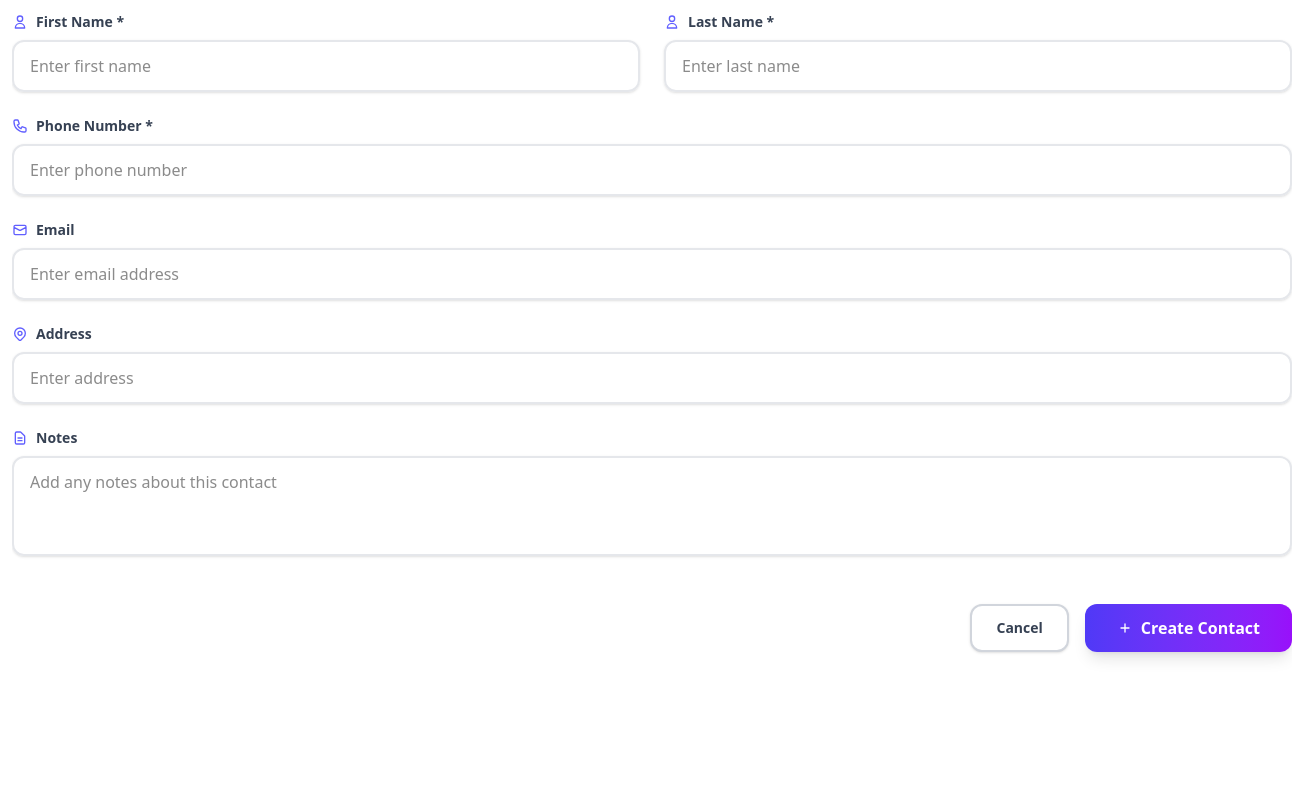
ContactForm › error handling › should handle non-Error exceptions
In the field labelled "First Name *": (326, 66) left=12, top=40, right=640, bottom=92, type "John"
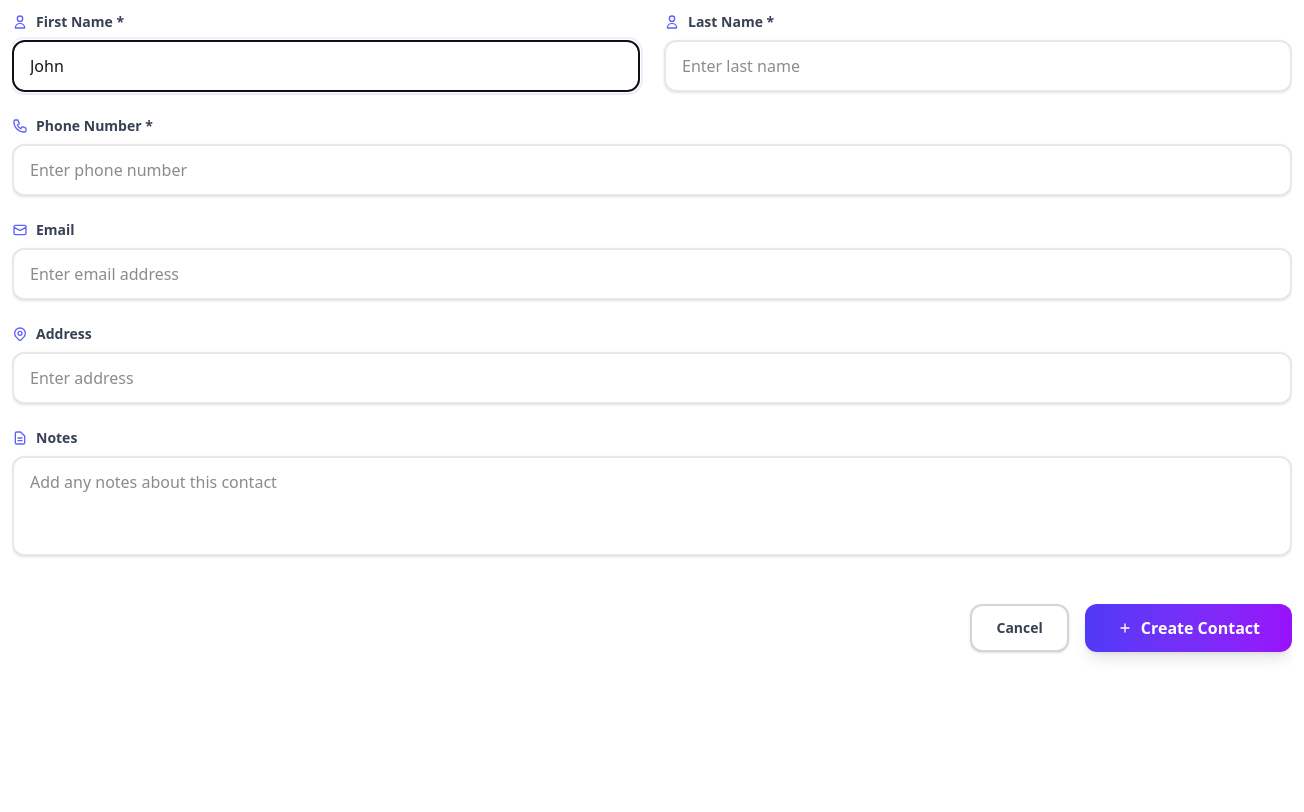
In the field labelled "Last Name *": (978, 66) left=664, top=40, right=1292, bottom=92, type "Doe"
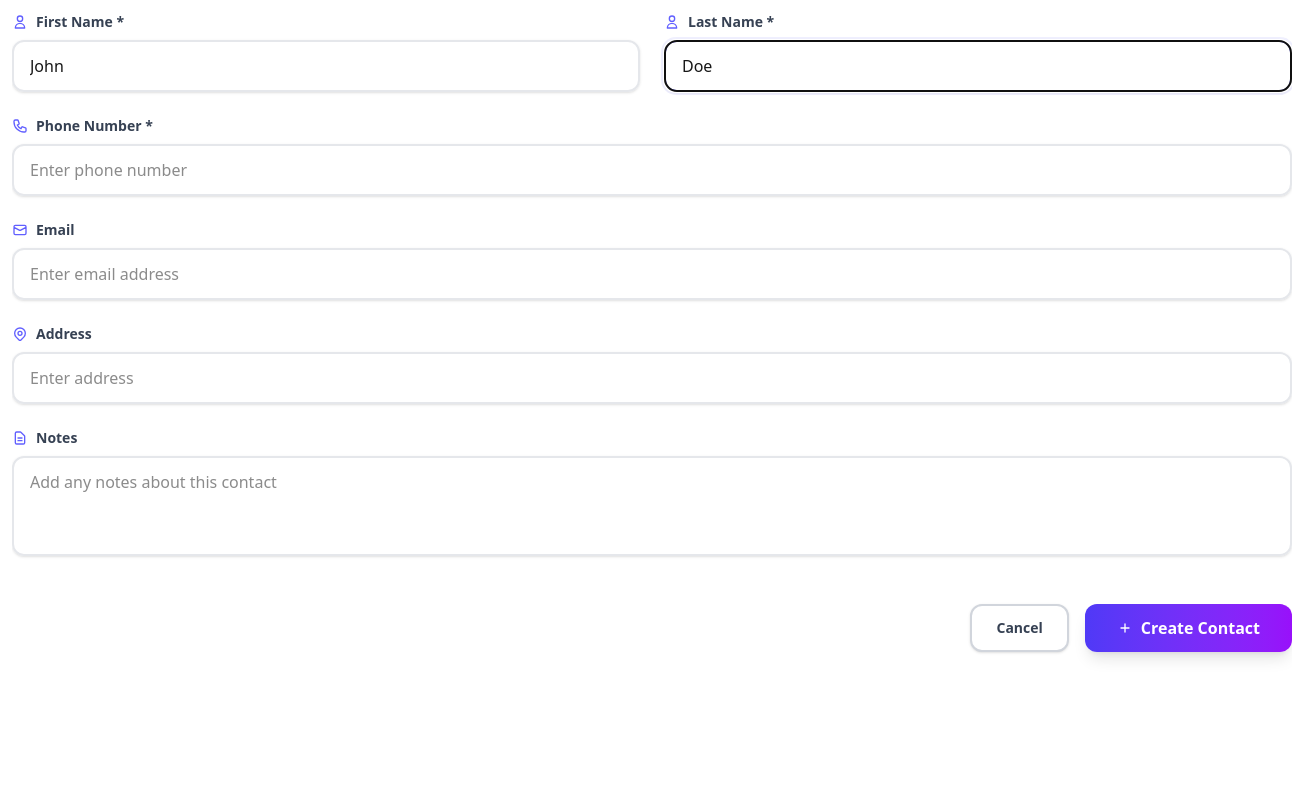
In the field labelled "Phone Number *": (652, 170) left=12, top=144, right=1292, bottom=196, type "1234567890"
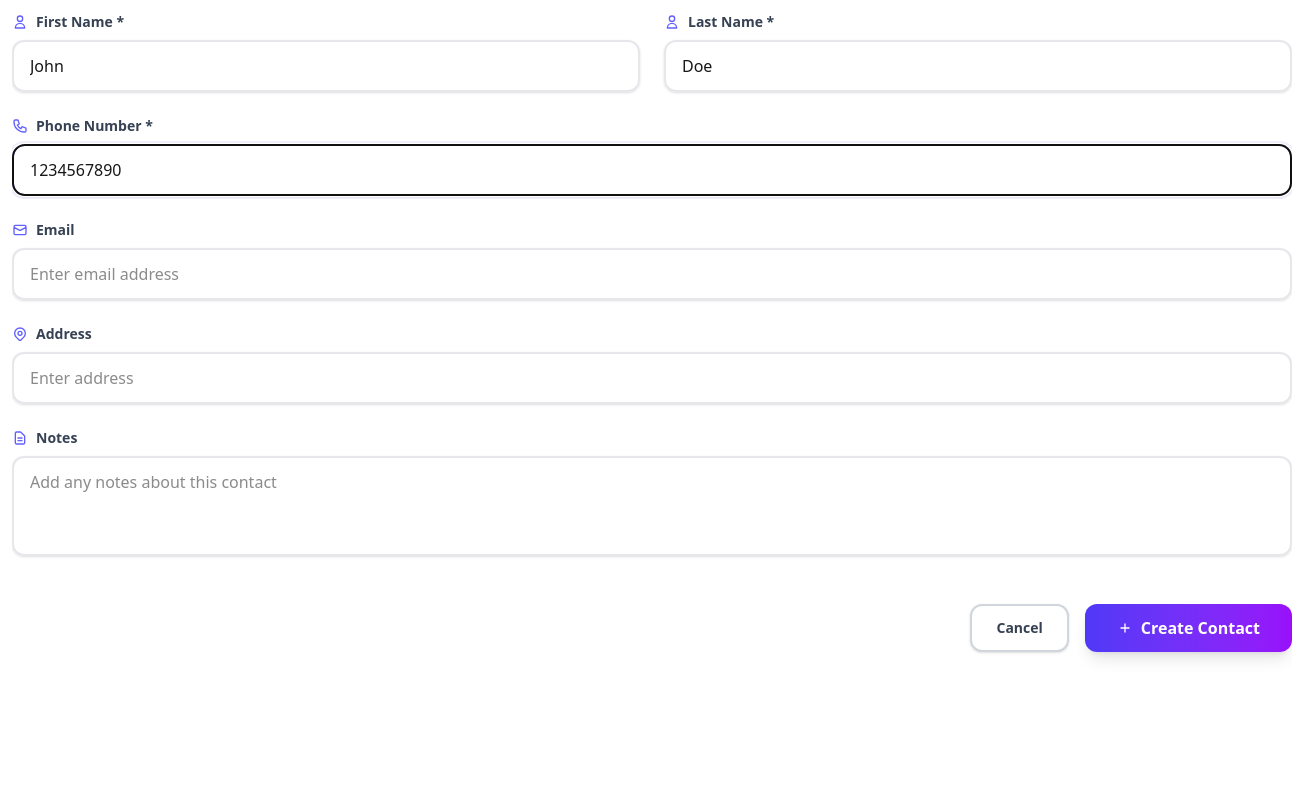
Click the button "Create Contact": (1188, 628) left=1085, top=604, right=1292, bottom=652
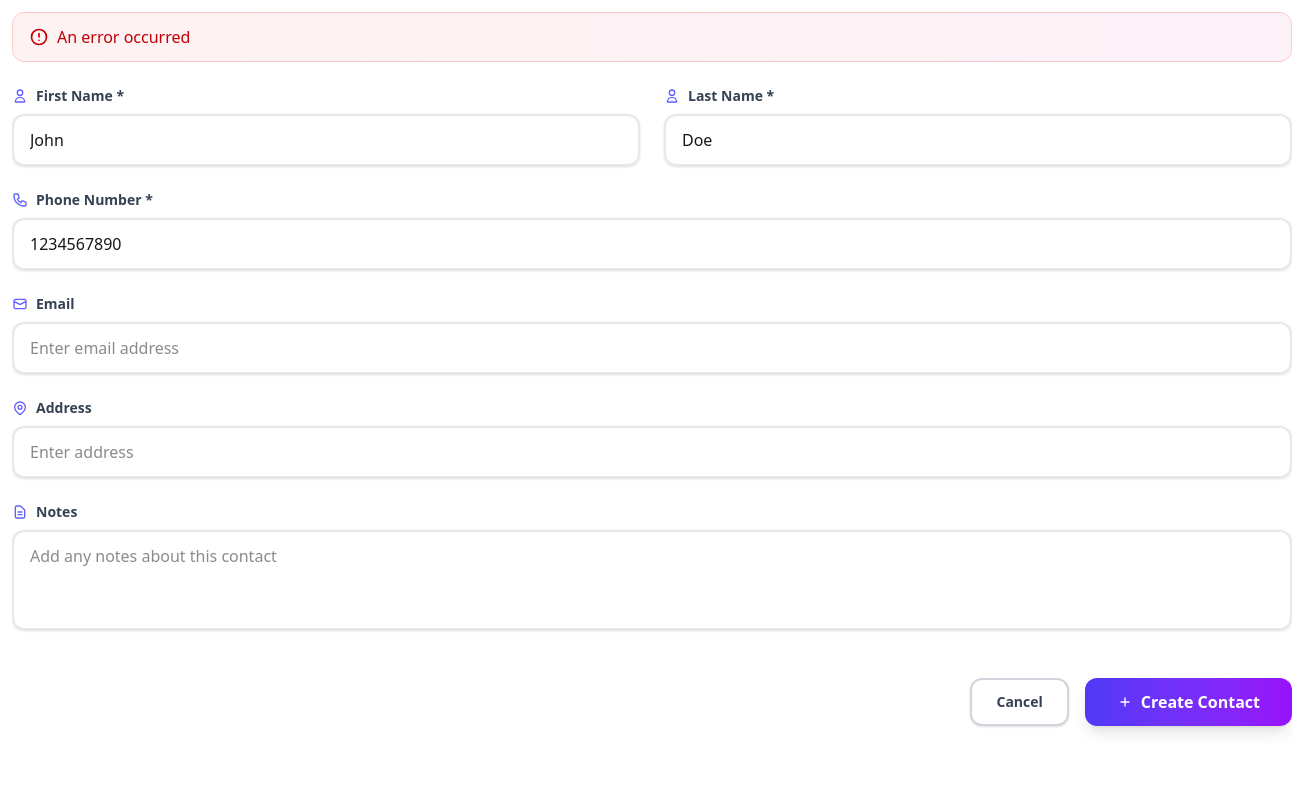
Check: the text "An error occurred" is shown, box left=12, top=12, right=1292, bottom=62
